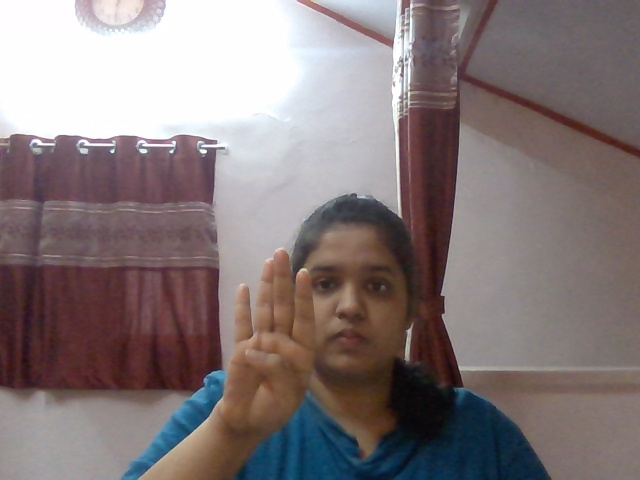b: (204, 242, 330, 448)
